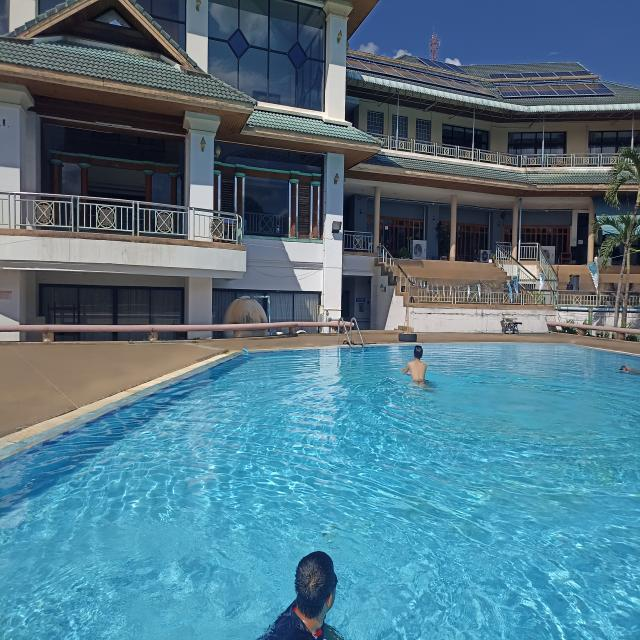Swimming: (260, 531, 371, 640), (391, 336, 438, 395)
